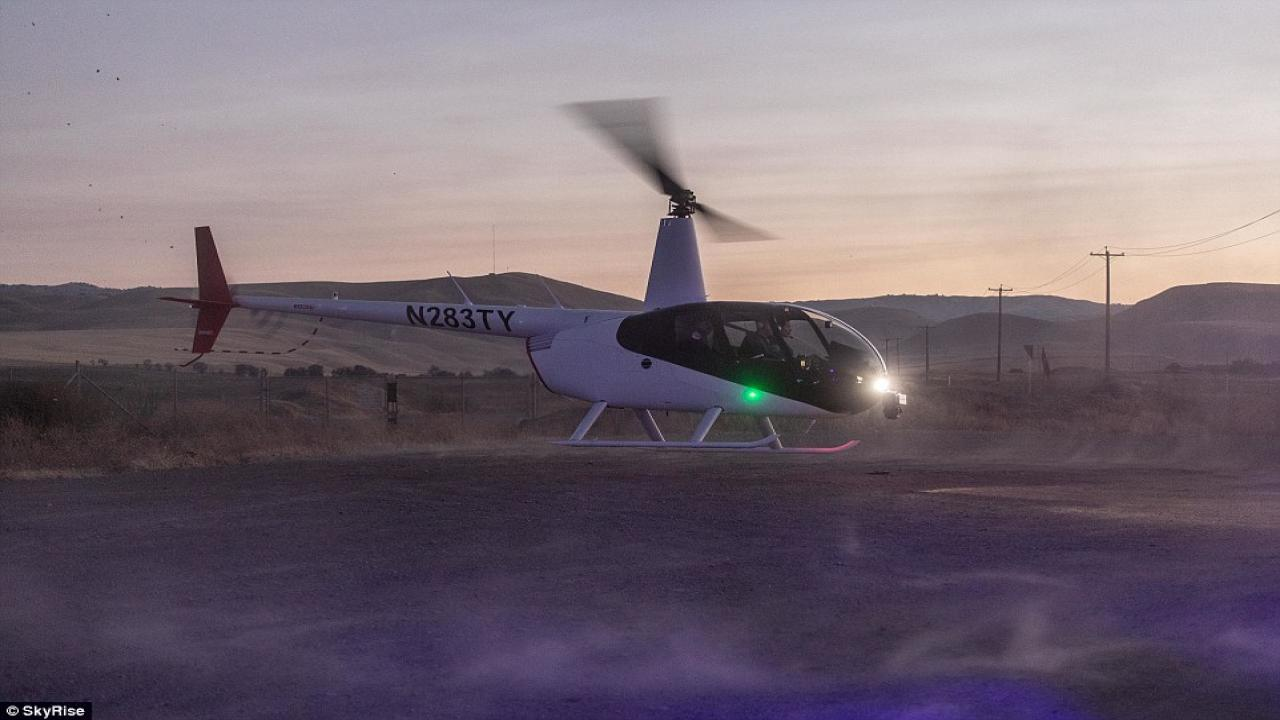Helicopter: (145, 88, 919, 466)
